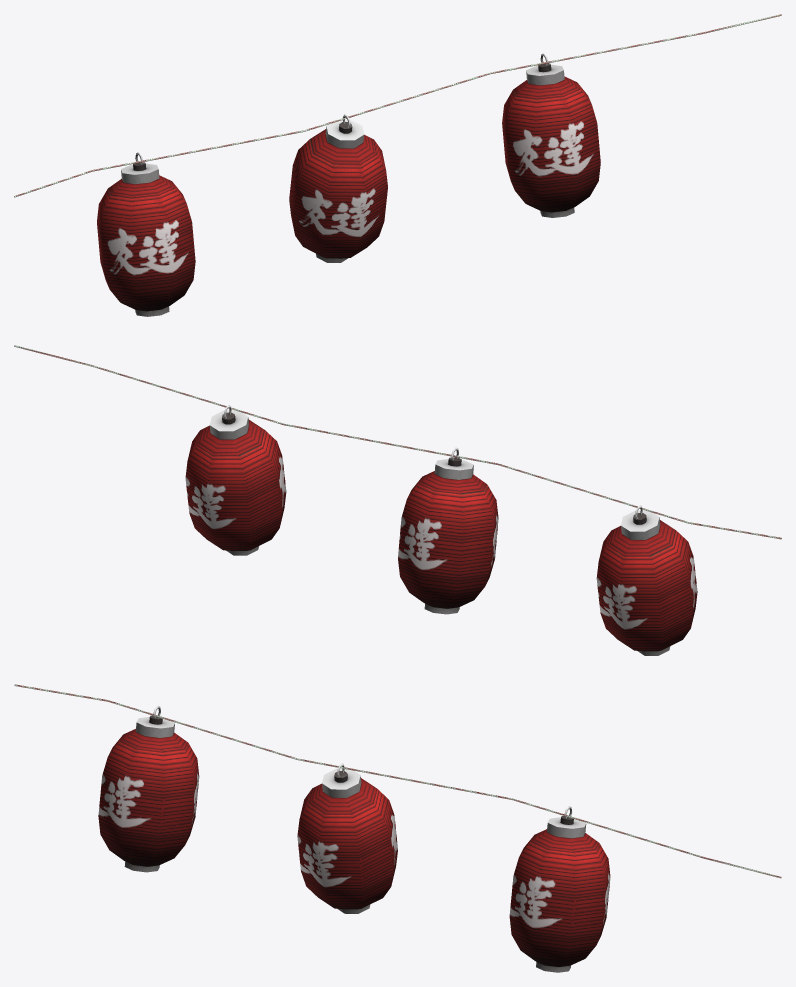
File: NNJ0310001.fbx
3 renders of one model, top to bottom at view 1: azimuth 30°, elevation 25°; view 2: azimuth 150°, elevation 25°; view 3: azimuth 330°, elevation 25°, orthographic.
Parts seen in each view (by area): view 1: smNNJ0310001; view 2: smNNJ0310001; view 3: smNNJ0310001.
Part boxes in pixels (left/top/right/bottom): smNNJ0310001: left=14, top=14, right=781, bottom=316; smNNJ0310001: left=14, top=345, right=781, bottom=655; smNNJ0310001: left=14, top=684, right=781, bottom=972.
Size of the model in its own units: 349 by 66.4 by 43.17.
Materials: 1 (1 with a texture image).
